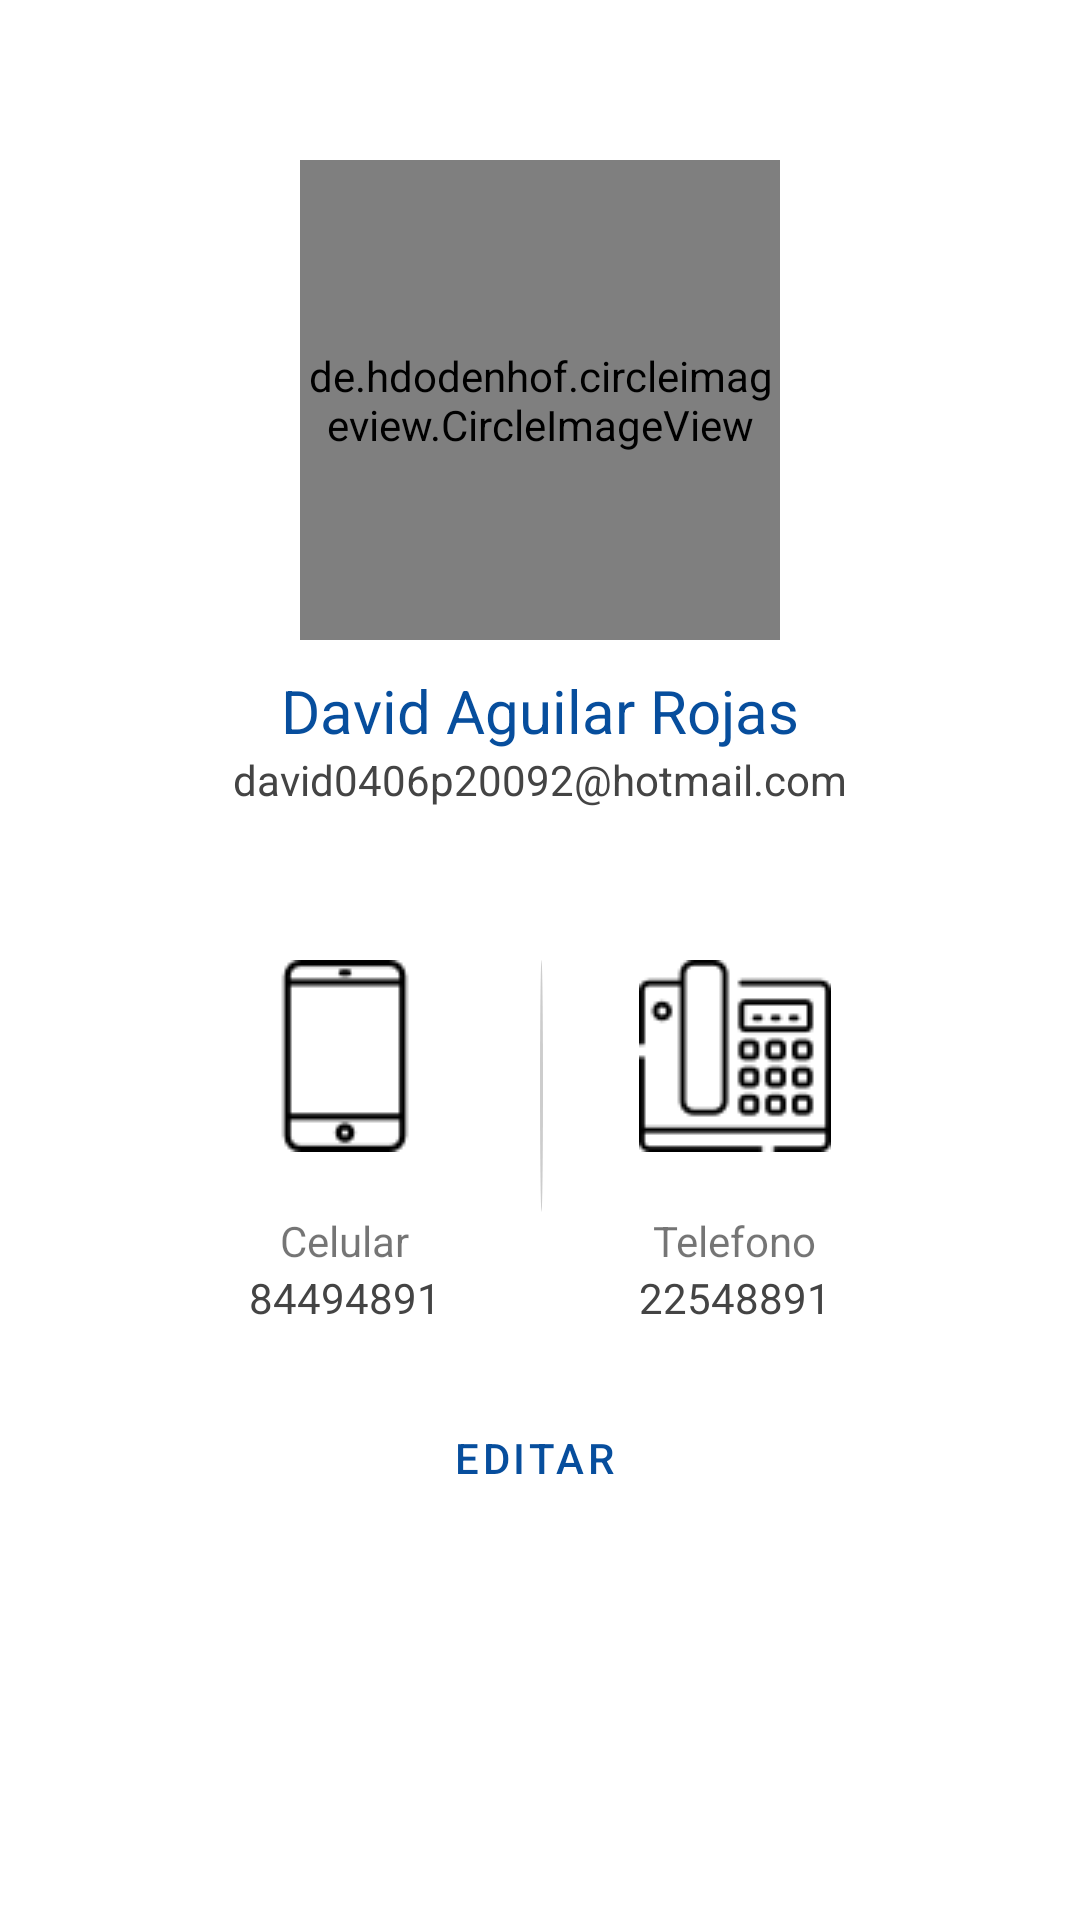

Locate icon controls on the screen. Image size 1080w x 1920h, boxes as (x1, y1, x2, y2).
cellphone: (282, 960, 408, 1152)
